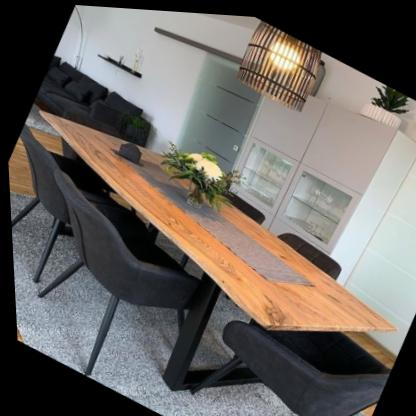Dining Table: (3, 80, 416, 416)
